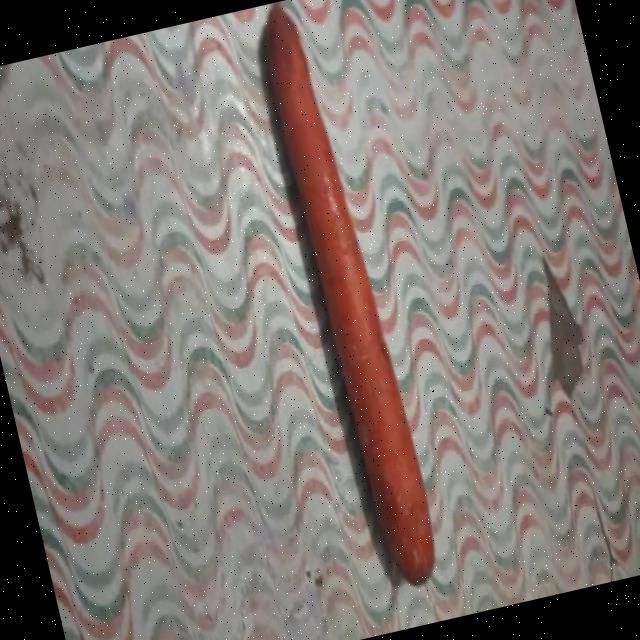carrot: (264, 9, 433, 583)
